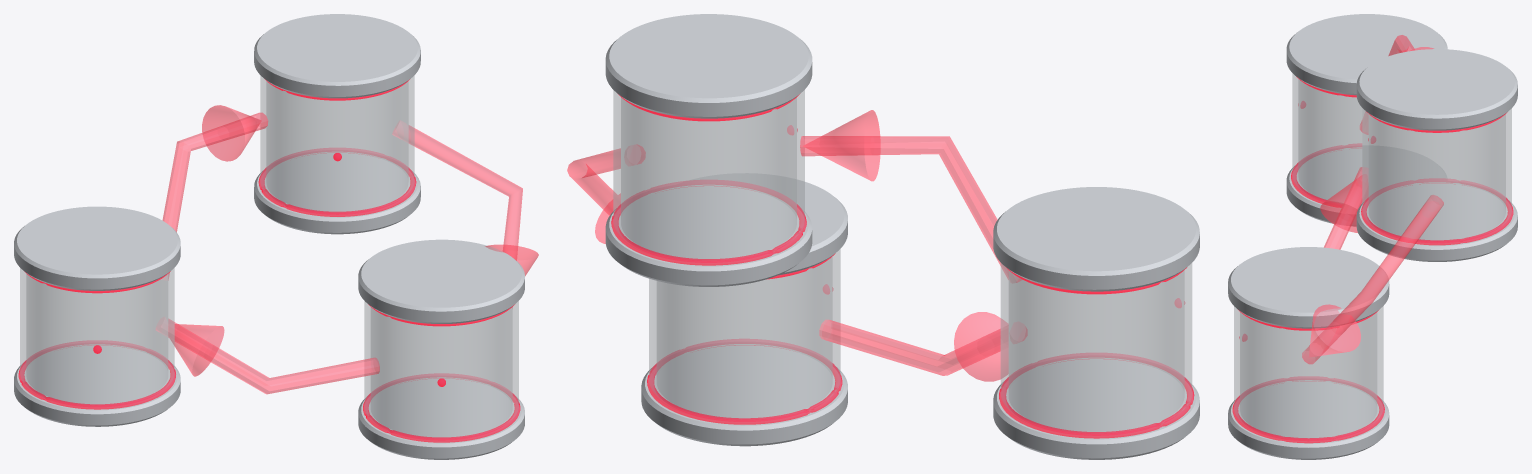
Rendered from 12-data-pipeline.glb.
3 views of the same model, side by side, from view 1: azimuth 30°, elevation 25°; view 2: azimuth 150°, elevation 25°; view 3: azimuth 270°, elevation 25° (orthographic). The views are drawn at different scales.
Parts seen in each view (by area): view 1: BC satin silver metal, BC clear optical glass, BC ruby optical glass, BC neon red glass edge; view 2: BC satin silver metal, BC clear optical glass, BC ruby optical glass, BC neon red glass edge; view 3: BC satin silver metal, BC clear optical glass, BC ruby optical glass, BC neon red glass edge.
Boxes of the visible parts, <box> form: BC satin silver metal: <box>14,14,524,459</box>; BC clear optical glass: <box>20,75,518,440</box>; BC ruby optical glass: <box>156,105,538,394</box>; BC neon red glass edge: <box>18,79,520,442</box>; BC satin silver metal: <box>605,14,1199,459</box>; BC clear optical glass: <box>613,90,1192,435</box>; BC ruby optical glass: <box>567,110,1027,381</box>; BC neon red glass edge: <box>611,94,1194,438</box>; BC satin silver metal: <box>1228,14,1517,459</box>; BC clear optical glass: <box>1234,73,1511,440</box>; BC ruby optical glass: <box>1302,35,1443,364</box>; BC neon red glass edge: <box>1232,76,1513,443</box>.
Size of the model in its own units: 2.38 by 1.55 by 1.24.
